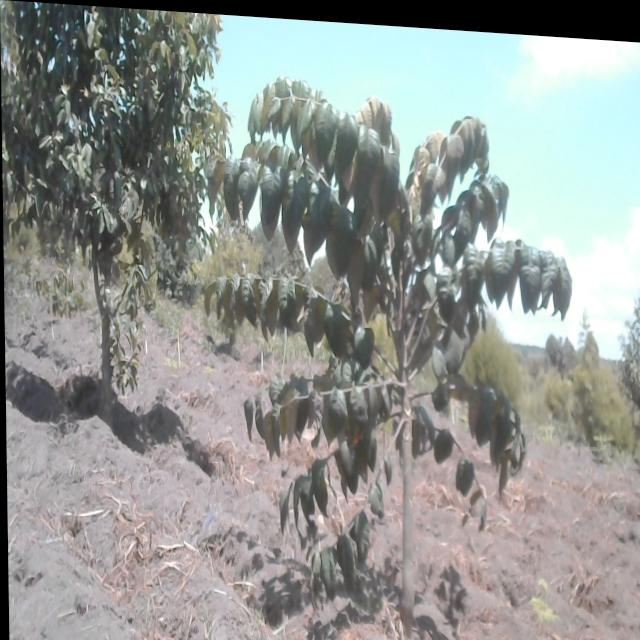Hass Avocado: (4, 3, 230, 453)
Polyscias fulva: (197, 29, 583, 640)
